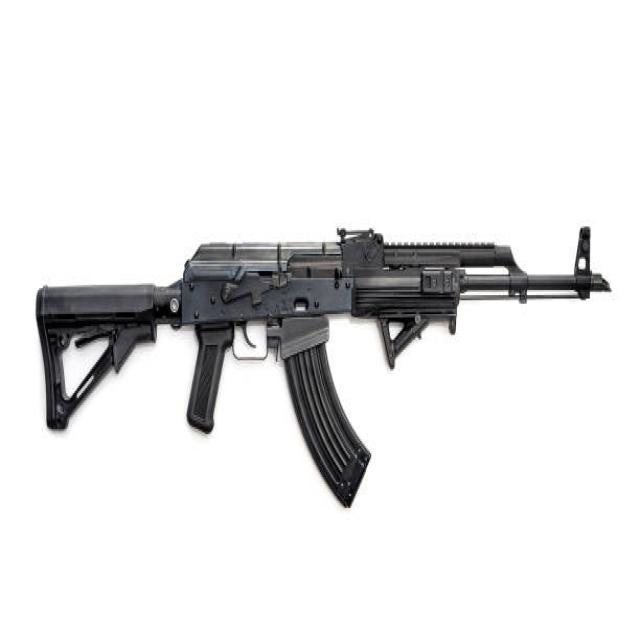rifle: (36, 206, 619, 520)
